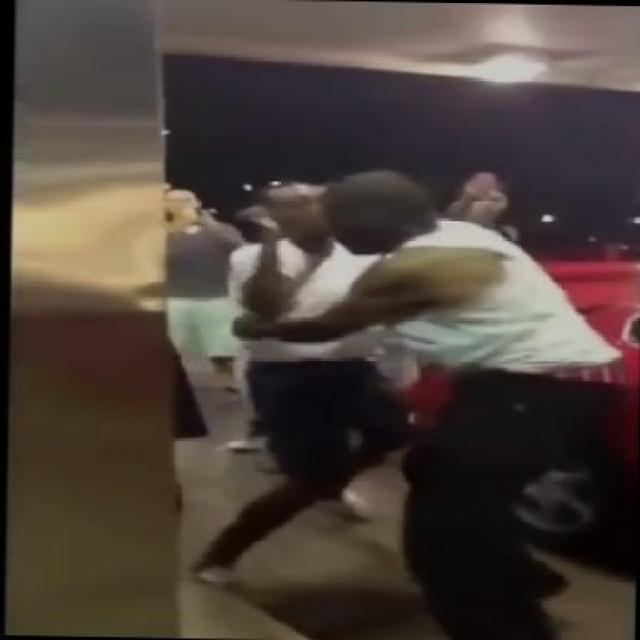fight: (185, 163, 639, 638)
